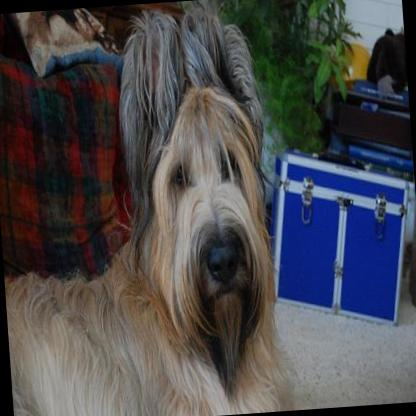briard: (0, 2, 303, 416)
